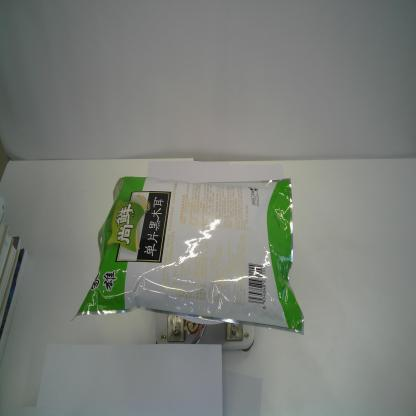Dried Food: (68, 173, 305, 337)
